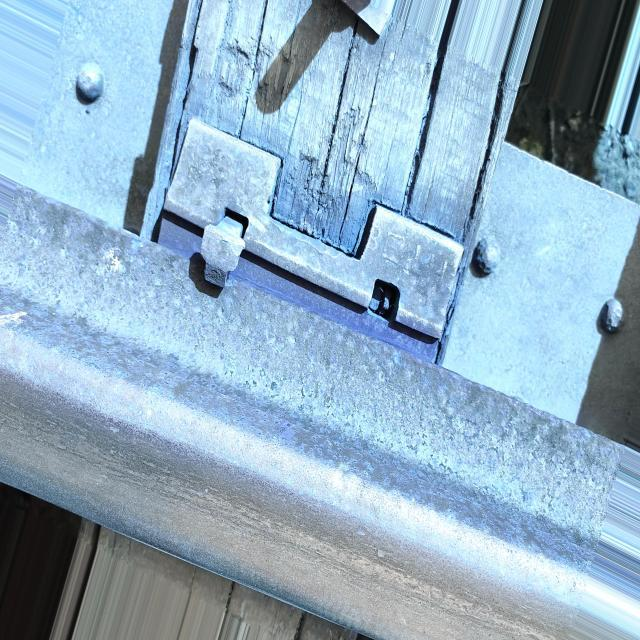Missing Dogscrew: (369, 279, 400, 321)
